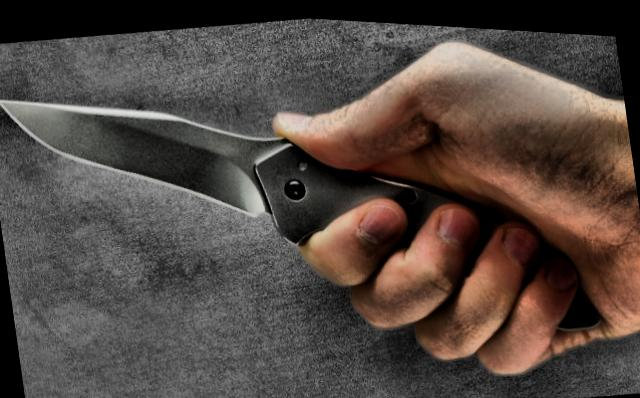knife: (0, 18, 493, 365)
